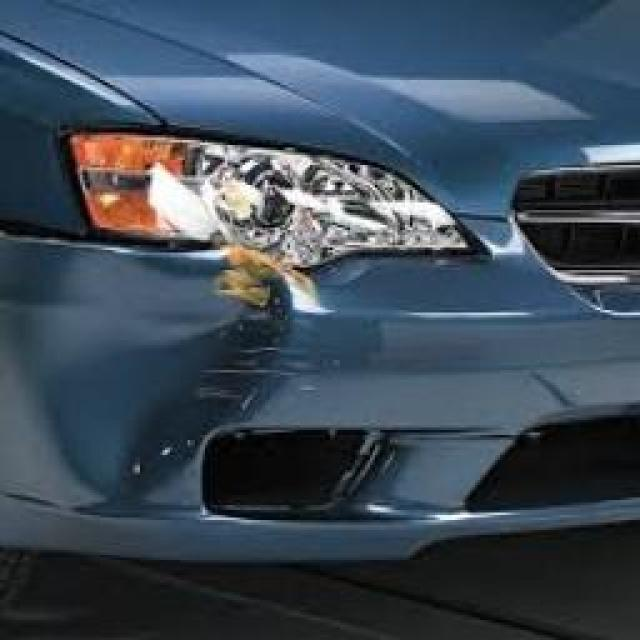rapairable: (192, 251, 327, 424)
